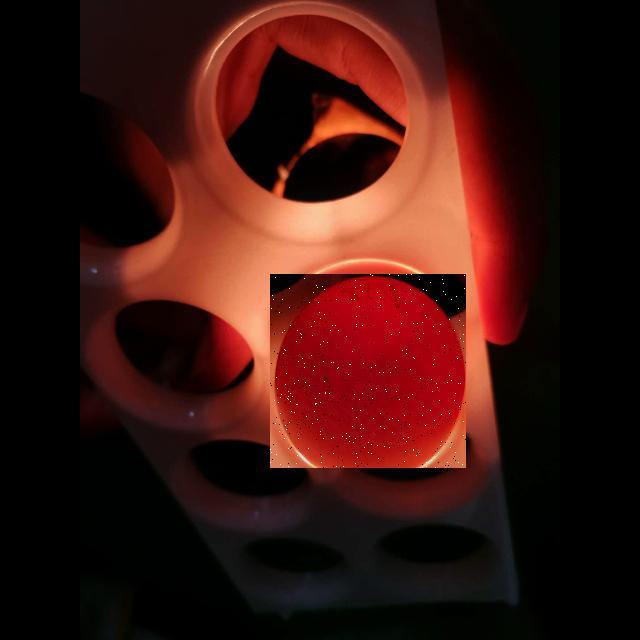Infertile: (270, 274, 466, 468)
